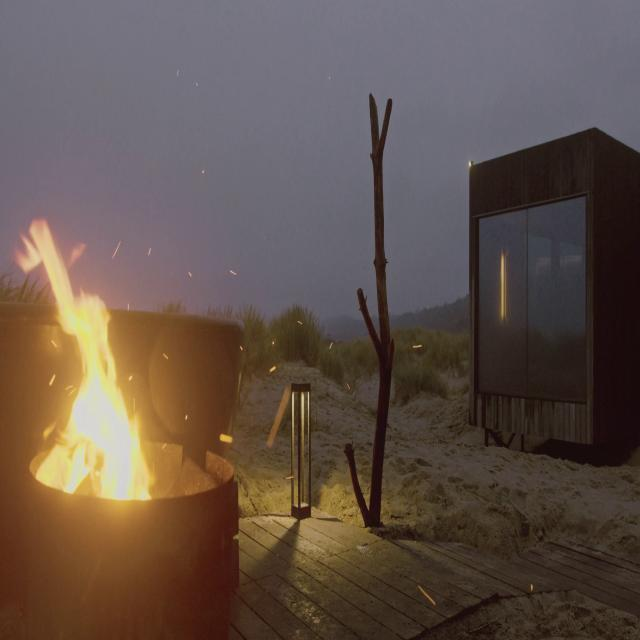Fire: (22, 211, 150, 504)
